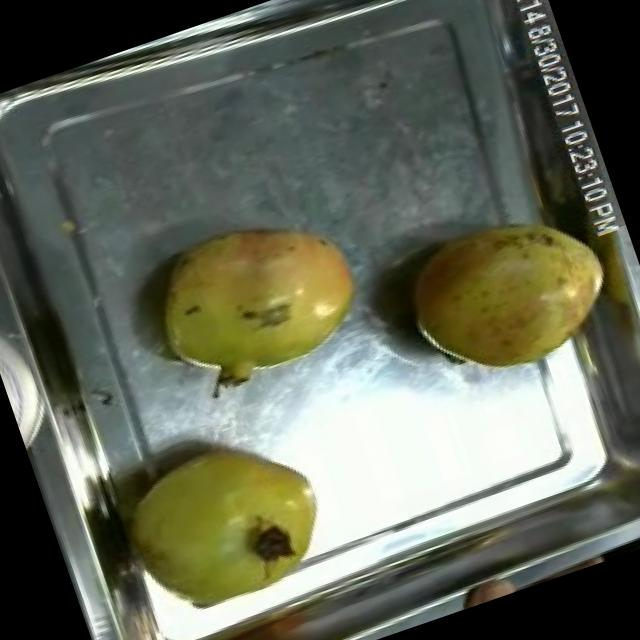fruit: (121, 182, 392, 422), (98, 406, 352, 634), (378, 182, 636, 404)
